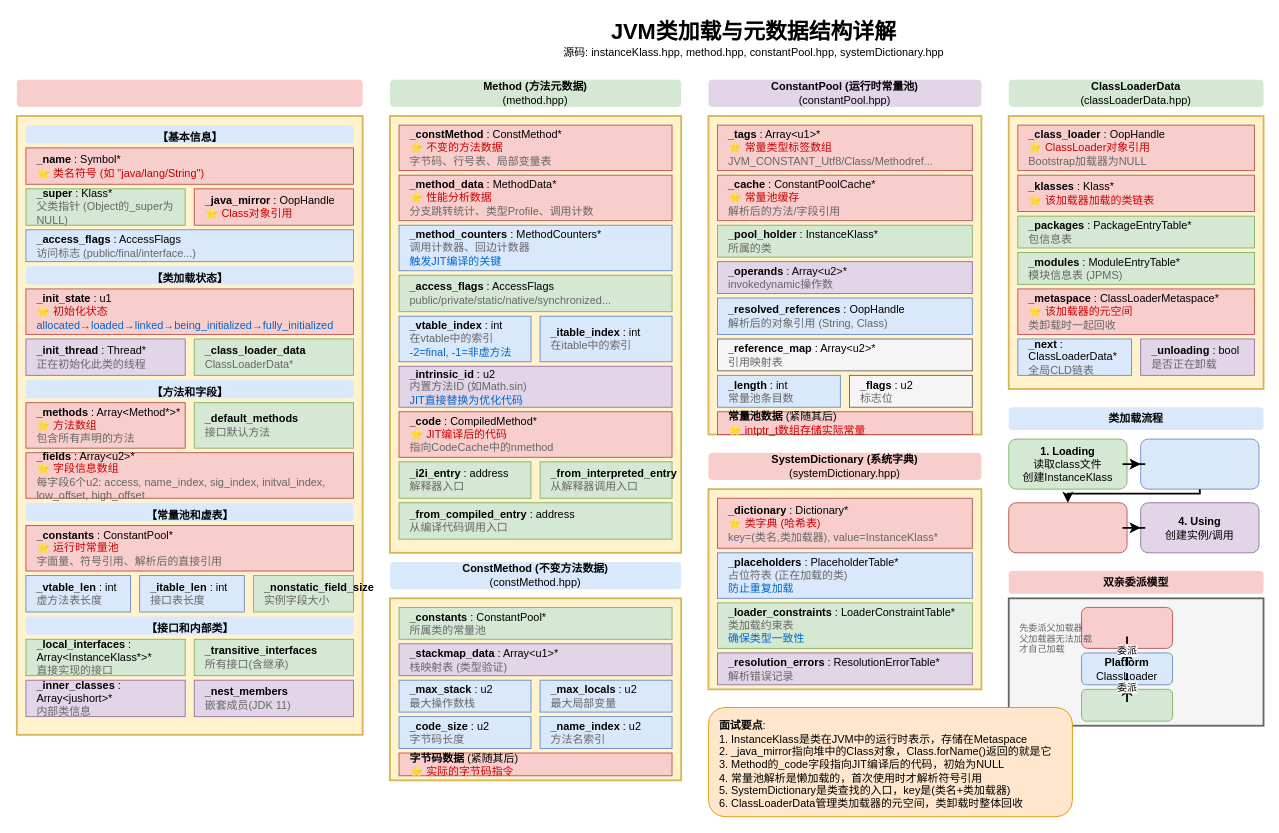
Some shapes in this 1279 by 833 pixel diagram are drawn without their labels. Here are the shapes that lost their labels. From the top down, the centre of each, then its label:
At point (189, 92): "InstanceKlass (类元数据核心) (instanceKlass.hpp)".
At point (1199, 463): "2. Linking 验证/准备/解析".
At point (1067, 527): "3. Initialization 执行<clinit>".
At point (1127, 627): "Bootstrap ClassLoader (C++实现)".
At point (1127, 704): "Application ClassLoader".
